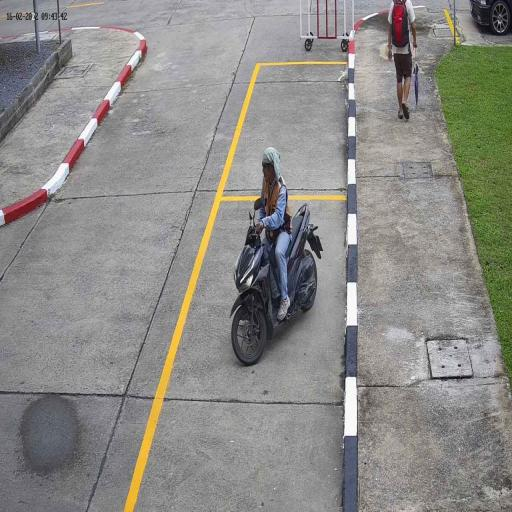motorcycle: (229, 204, 324, 368)
